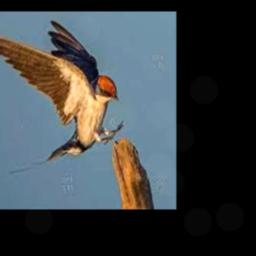Swallow: (0, 19, 123, 173)
